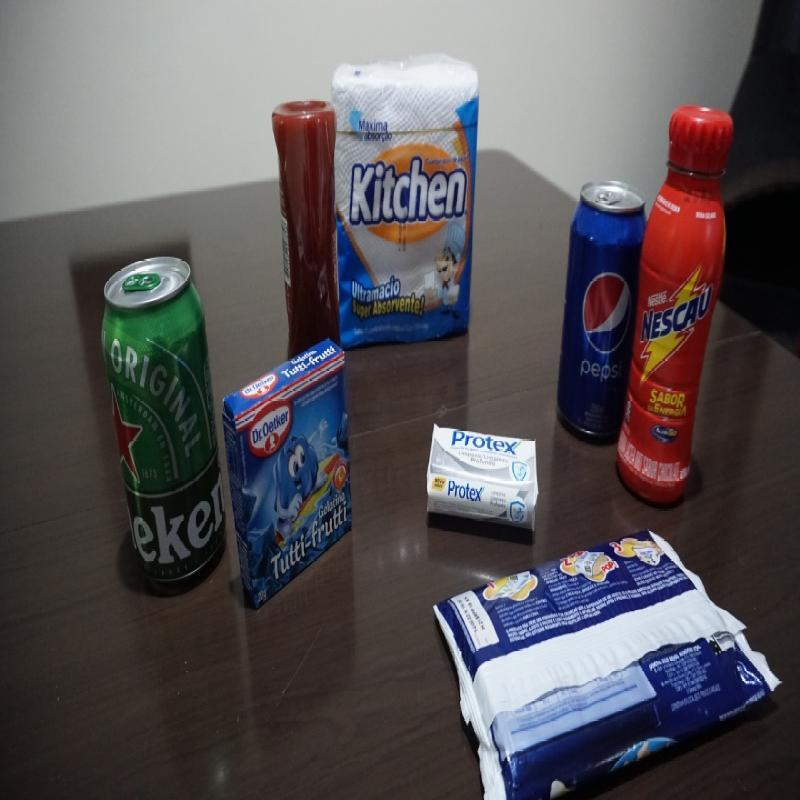Beer can: (100, 252, 226, 593)
Chocolate Milk: (617, 101, 732, 506)
Gelatine: (223, 338, 355, 612)
Ketchup: (271, 96, 343, 342)
Napkin: (333, 52, 481, 348)
Popcorn: (432, 532, 789, 798)
Soap: (423, 418, 542, 539)
Soda can: (555, 176, 636, 442)
